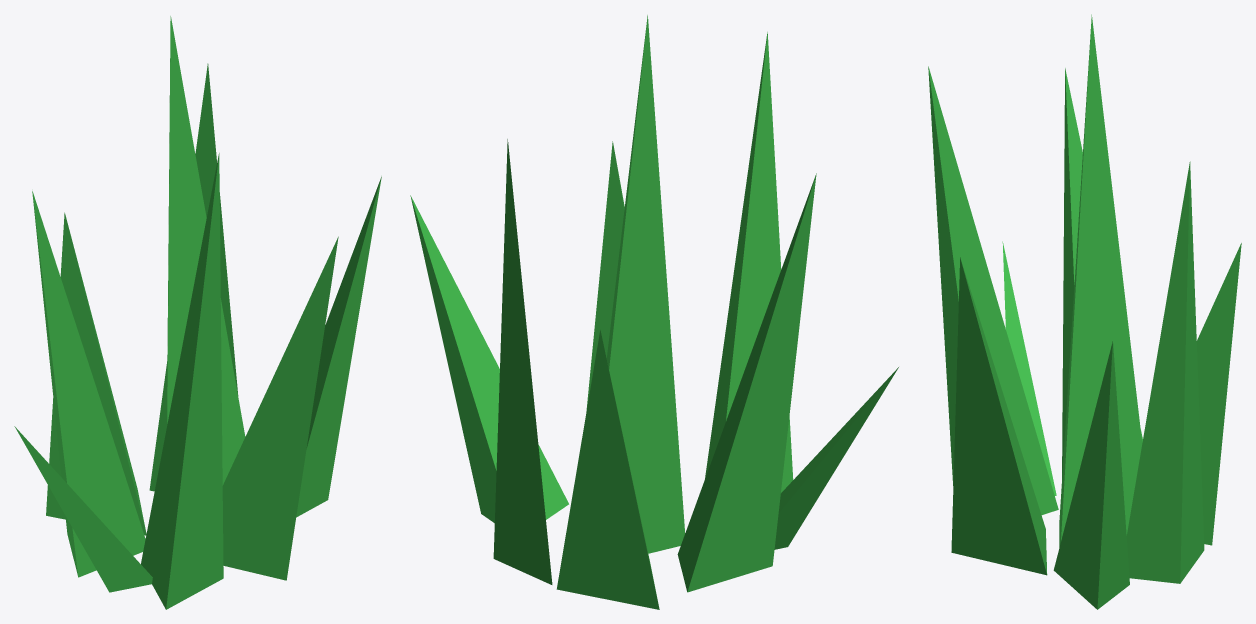
File: grass.fbx
3 renders of one model, left to right at view 1: azimuth 30°, elevation 25°; view 2: azimuth 150°, elevation 25°; view 3: azimuth 270°, elevation 25°, orthographic. The views are drawn at different scales.
Visible parts, largest first — view 1: Cone; view 2: Cone; view 3: Cone.
Part boxes in pixels (<box>): Cone: <box>14,16,381,609</box>; Cone: <box>410,15,898,609</box>; Cone: <box>928,14,1241,609</box>.
Bounding box in the file's own units: 105 × 124 × 68.13.
